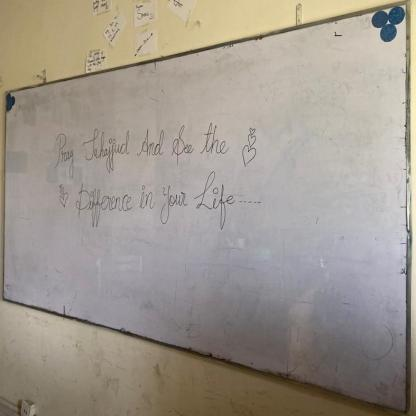Handwritten text: (50, 116, 232, 172), (69, 174, 235, 231)
Whiteboard: (0, 2, 409, 416)
